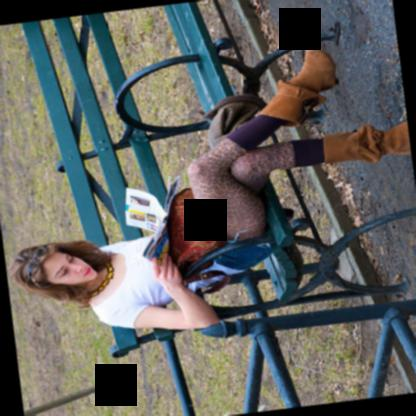handbag: (168, 186, 230, 294)
